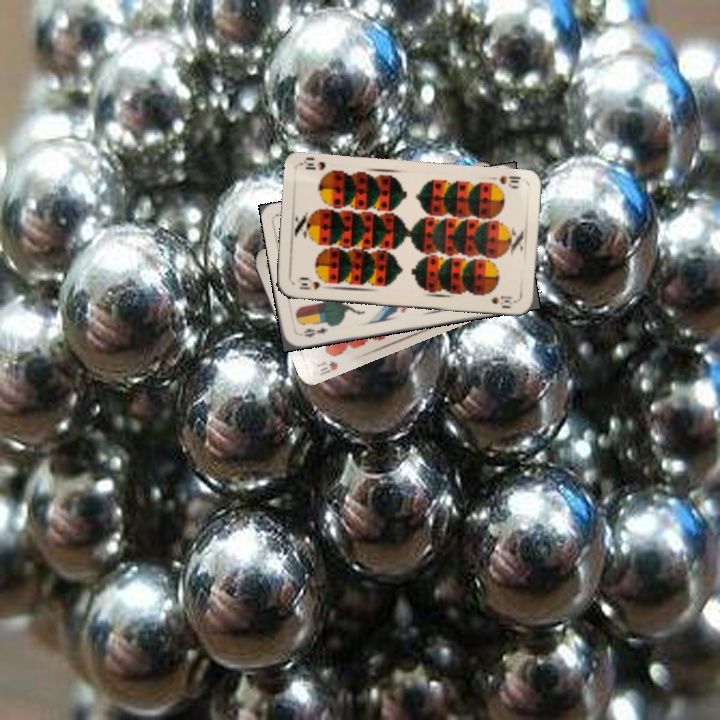EO: (300, 323, 330, 340)
H10: (312, 356, 341, 378)
S10: (495, 171, 523, 191), (294, 275, 323, 293)
